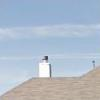Chimney: (30, 52, 64, 85)
